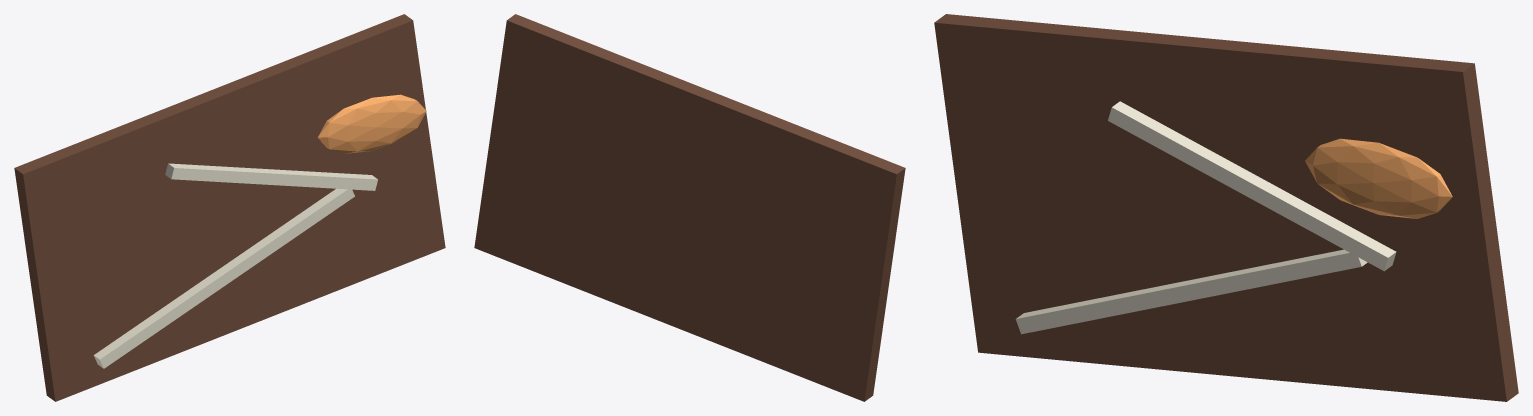
File: 02_weathering_wear_overlay_2.glb
3 renders of one model, left to right at view 1: azimuth 30°, elevation 25°; view 2: azimuth 150°, elevation 25°; view 3: azimuth 330°, elevation 25°, orthographic. The views are drawn at different scales.
Parts seen in each view (by area): view 1: wear_plate, scratch_a, rust_or_moss_spot, scratch_b; view 2: wear_plate; view 3: wear_plate, rust_or_moss_spot, scratch_b, scratch_a.
Part boxes in pixels (x1,y1,x2,y2): wear_plate: (14, 14, 445, 401); scratch_a: (93, 188, 354, 368); rust_or_moss_spot: (317, 94, 426, 153); scratch_b: (165, 163, 377, 190); wear_plate: (474, 14, 905, 401); wear_plate: (934, 14, 1518, 401); rust_or_moss_spot: (1305, 138, 1452, 218); scratch_b: (1108, 101, 1396, 271); scratch_a: (1015, 249, 1367, 334).
Size of the model in its own units: 1.39 by 0.9276 by 0.134.
